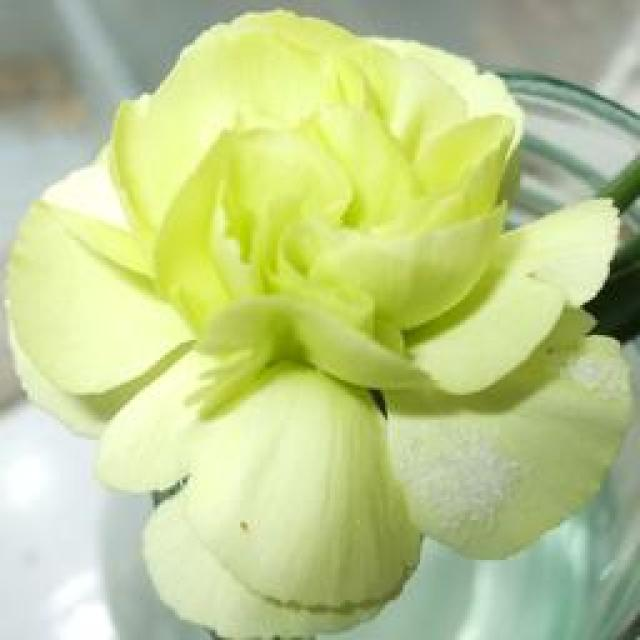carnation: (0, 13, 640, 600)
